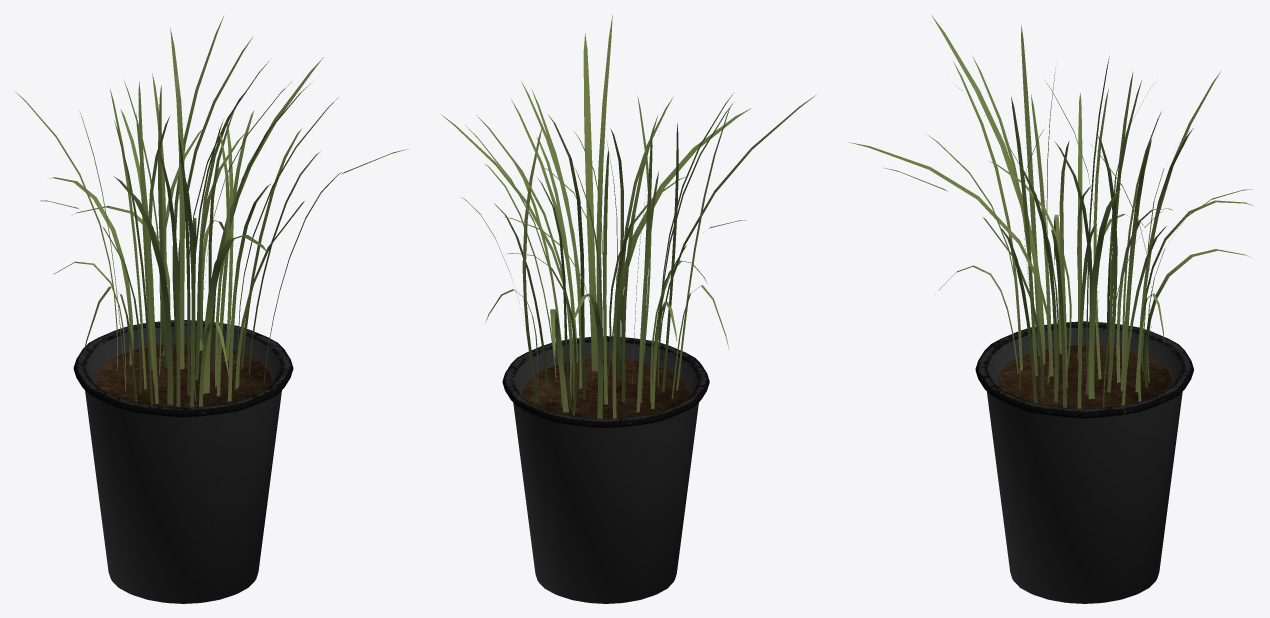
File: plant.FBX
3 renders of one model, left to right at view 1: azimuth 30°, elevation 25°; view 2: azimuth 150°, elevation 25°; view 3: azimuth 270°, elevation 25°, orthographic. The views are drawn at different scales.
Visible parts, largest first — view 1: 69_MACETA_1_LP; view 2: 69_MACETA_1_LP; view 3: 69_MACETA_1_LP.
Boxes of the visible parts, bbox=[...] form: 69_MACETA_1_LP: bbox=[15, 16, 408, 603]; 69_MACETA_1_LP: bbox=[441, 15, 815, 603]; 69_MACETA_1_LP: bbox=[849, 15, 1253, 603].
Size of the model in its own units: 36.22 by 59.41 by 41.76.
Materials: 3 (3 with a texture image).
